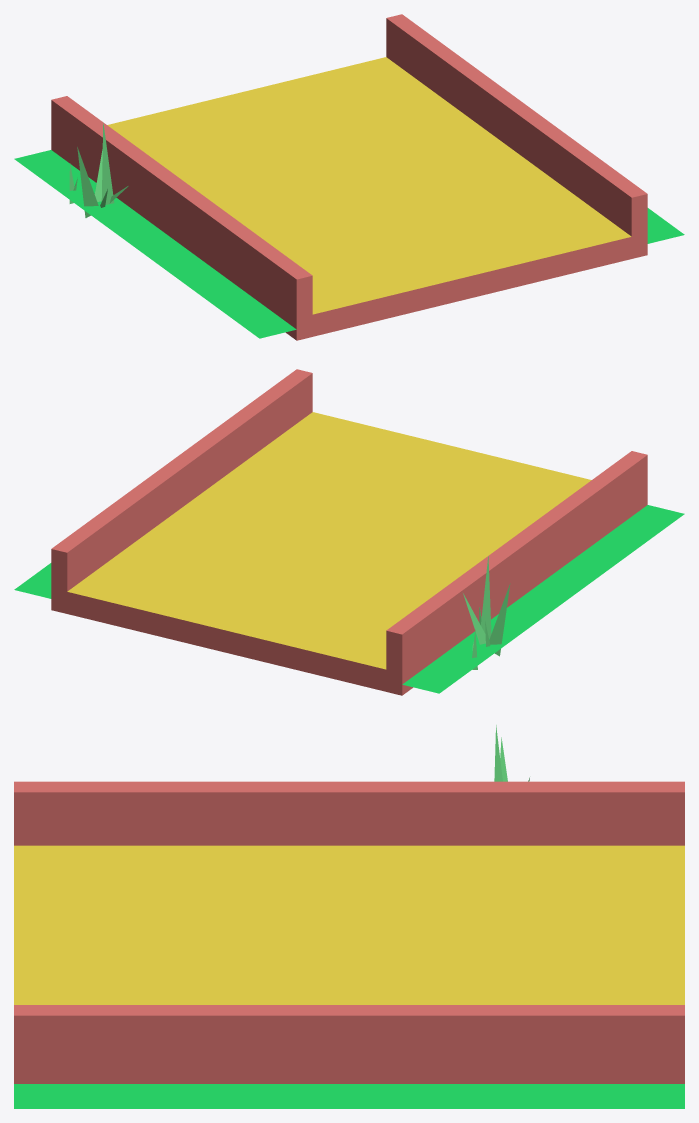
File: electric_tile.fbx
3 renders of one model, top to bottom at view 1: azimuth 30°, elevation 25°; view 2: azimuth 150°, elevation 25°; view 3: azimuth 270°, elevation 25°, orthographic. The views are drawn at different scales.
Visible parts, largest first — view 1: straight_path, Plane, 0_grass, 0_grass.002; view 2: straight_path, Plane, 0_grass.002; view 3: straight_path, Plane.
Boxes of the visible parts, <box> form: straight_path: <box>51,14,647,340</box>; Plane: <box>14,150,684,338</box>; 0_grass: <box>101,123,114,204</box>; 0_grass.002: <box>77,147,98,217</box>; straight_path: <box>51,369,647,695</box>; Plane: <box>14,505,684,693</box>; 0_grass.002: <box>489,583,510,656</box>; straight_path: <box>14,781,684,1083</box>; Plane: <box>14,1084,684,1108</box>.
Size of the model in its own units: 202 by 43.5 by 200.
